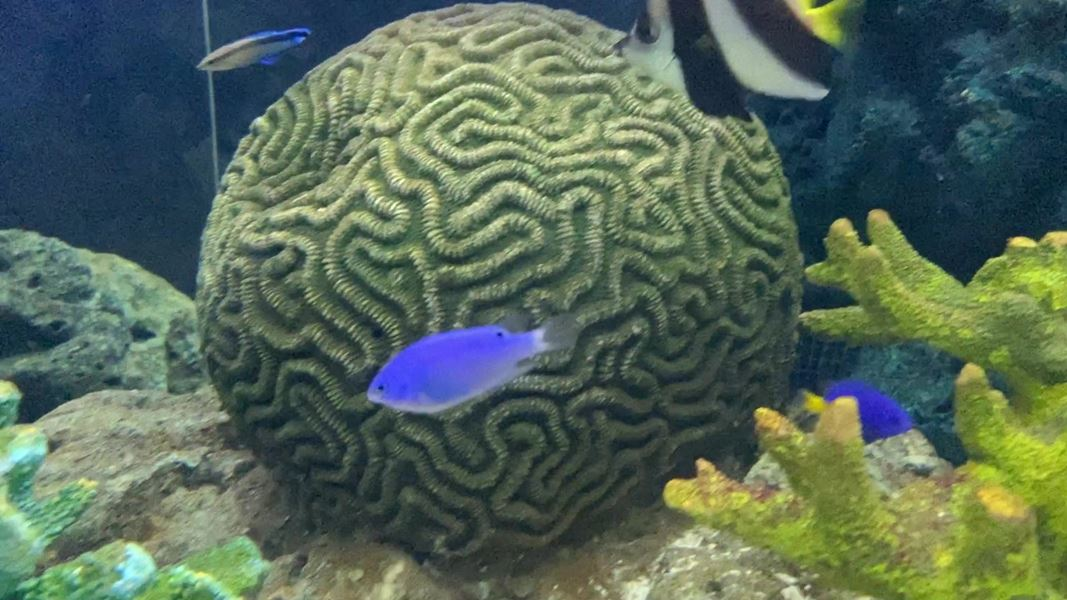Bluesteak cleaner wrasse: (196, 20, 313, 95)
